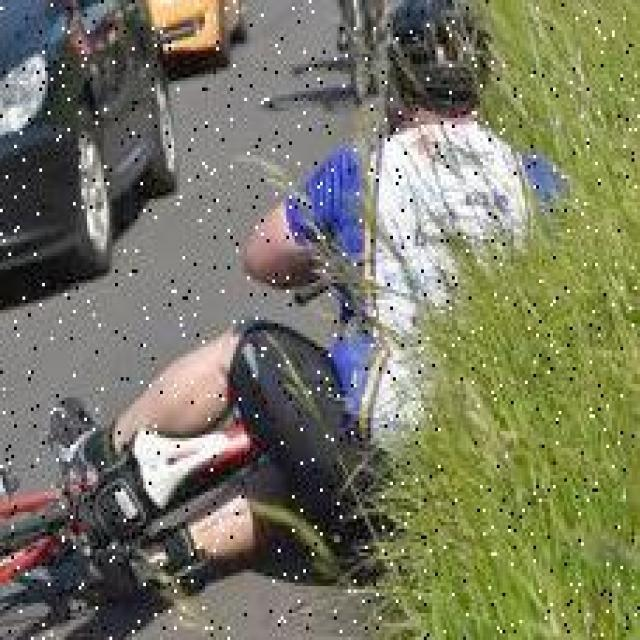fall: (123, 16, 511, 572)
